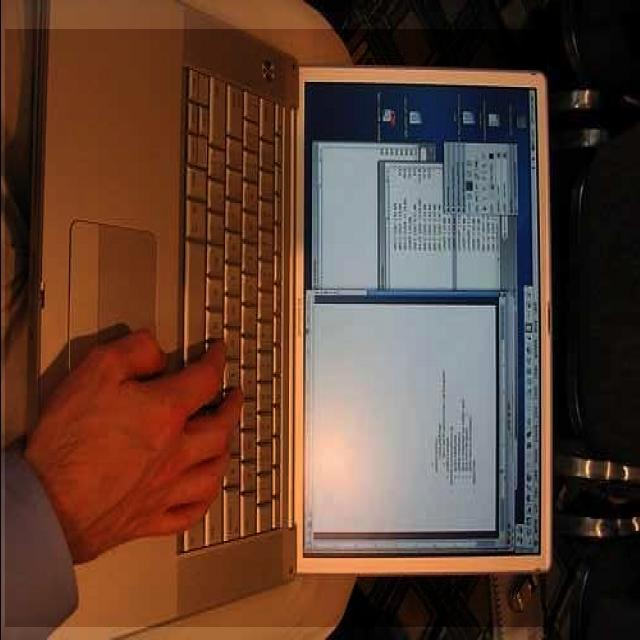-keyboard-: (5, 29, 546, 627)
